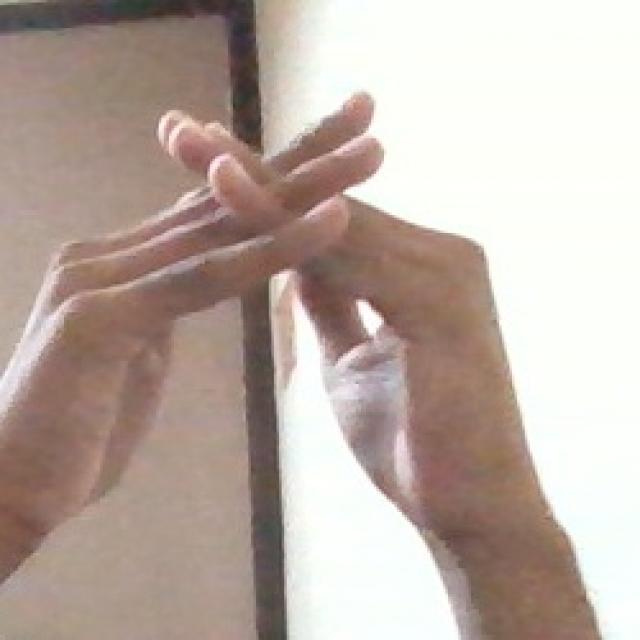Alphabet-W: (16, 94, 550, 480)
